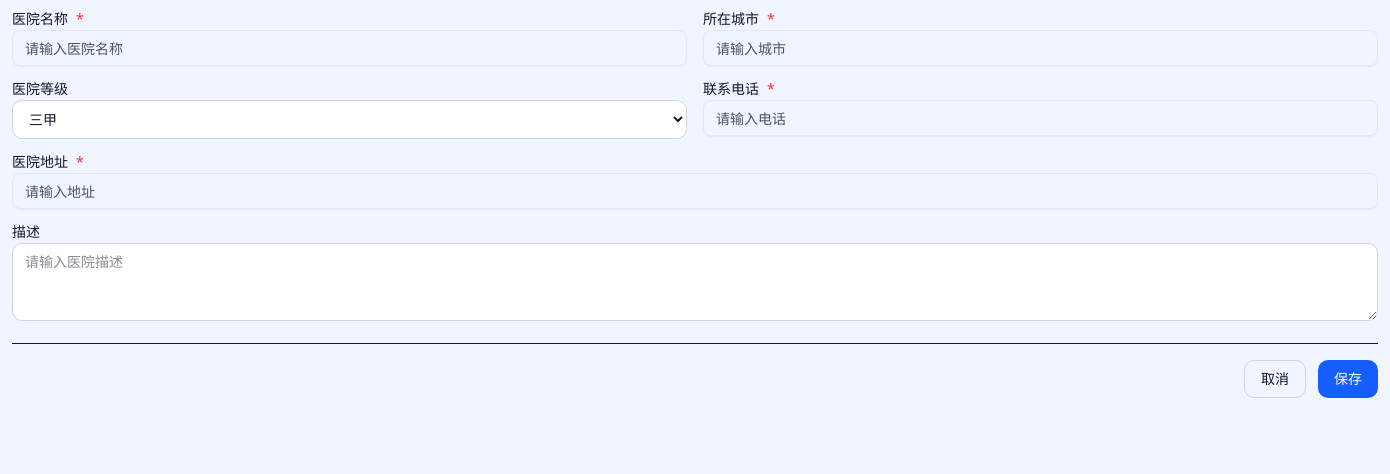
Test: HospitalForm › clears individual field errors on type
The image size is (1390, 474).
Click the button "保存" at (1348, 379), box [1318,360,1378,398]
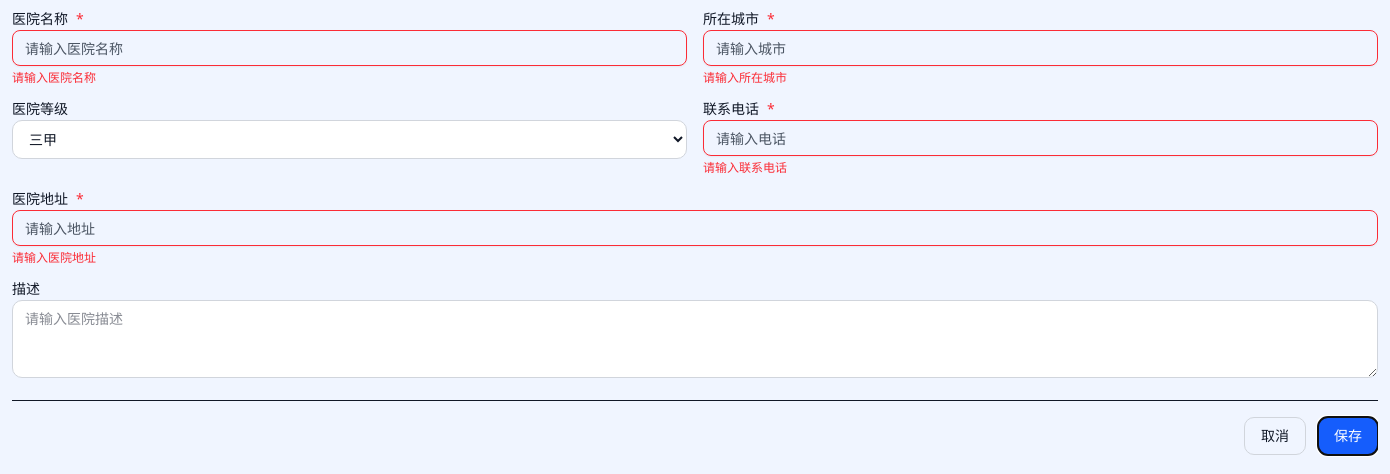
Check: the text "请输入医院名称" is shown, box [12,69,96,86]
Type "新医院" into the field with placeholder "请输入医院名称" at (350, 48), box [12,30,687,66]
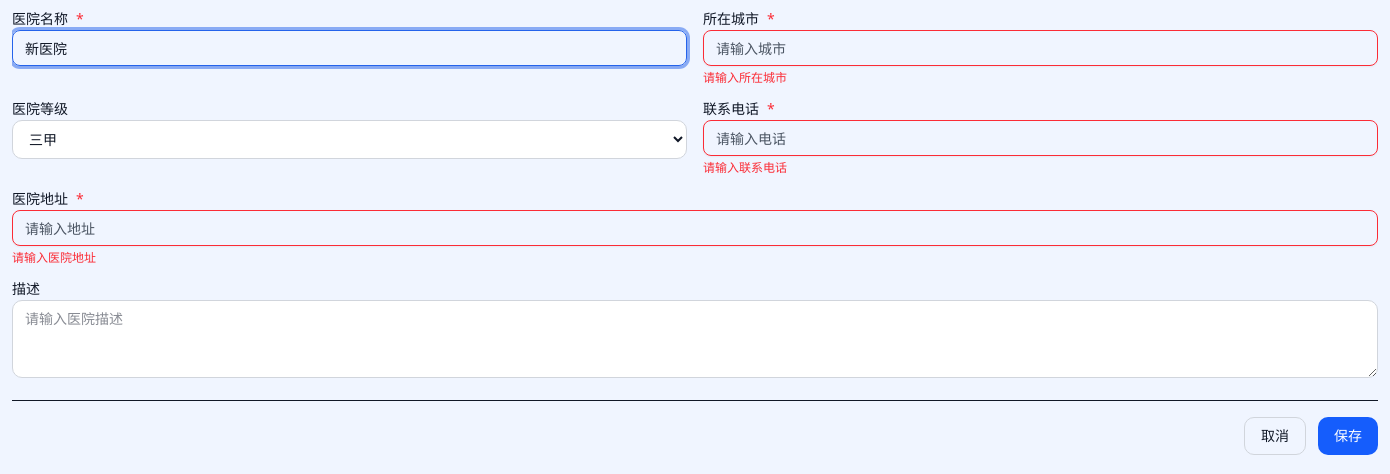
Check: the text "请输入所在城市" is shown, box [703,69,787,86]
Check: the text "请输入医院名称" is gone
